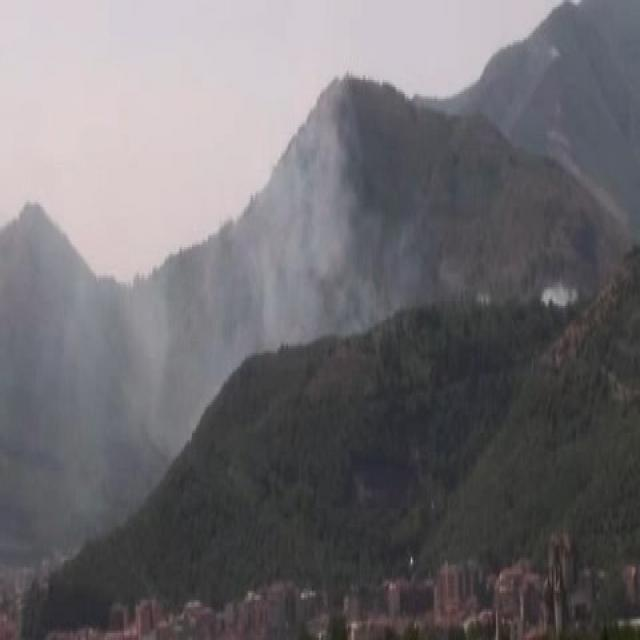smoke: (29, 295, 204, 429), (234, 170, 354, 346)
